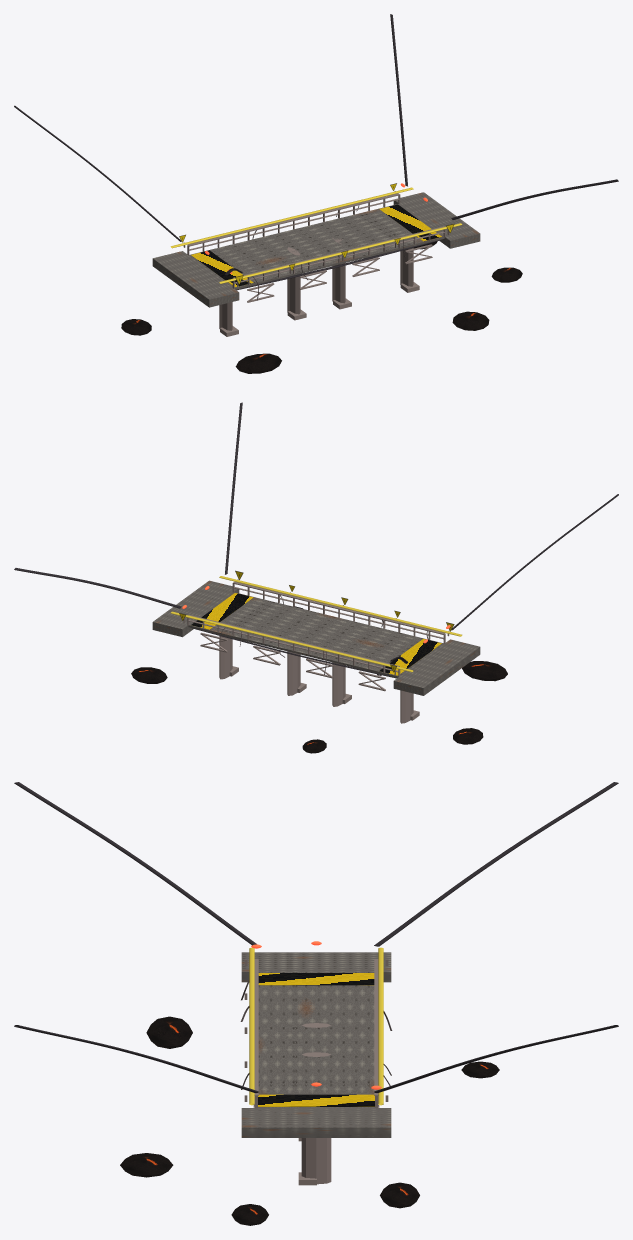
File: fire.glb
3 views of the same model, one above another, from view 1: azimuth 30°, elevation 25°; view 2: azimuth 150°, elevation 25°; view 3: azimuth 270°, elevation 25° (orthographic). The views are drawn at different scales.
Parts seen in each view (by area): view 1: BridgeDeck, BridgePlatform_L, BridgePlatform_R, WarningStripe_R, UpperConduit_1, WarningStripe_L, LavaIsland_0, UpperConduit_0, TopRail_+1, LavaIsland_3, Pillar_1, AnchorCable_3 (+3 smaller); view 2: BridgeDeck, BridgePlatform_L, BridgePlatform_R, WarningStripe_R, UpperConduit_0, WarningStripe_L, UpperConduit_1, LavaIsland_0, TopRail_-1, AnchorCable_2, Pillar_1, Pillar_2 (+4 smaller); view 3: BridgeDeck, BridgePlatform_R, BridgePlatform_L, WarningStripe_L, WarningStripe_R, Pillar_3, AnchorCable_1, AnchorCable_0, LavaIsland_0, LavaIsland_3, UpperConduit_0, UpperConduit_1 (+6 smaller).
Part boxes in pixels (bbox=[...]): BridgeDeck: bbox=[189, 204, 444, 289]; BridgePlatform_L: bbox=[152, 251, 239, 307]; BridgePlatform_R: bbox=[393, 192, 480, 248]; WarningStripe_R: bbox=[379, 204, 441, 241]; UpperConduit_1: bbox=[170, 187, 413, 248]; WarningStripe_L: bbox=[191, 250, 253, 287]; LavaIsland_0: bbox=[235, 353, 281, 373]; UpperConduit_0: bbox=[219, 223, 462, 283]; TopRail_+1: bbox=[188, 193, 399, 246]; LavaIsland_3: bbox=[452, 311, 489, 330]; Pillar_1: bbox=[287, 247, 300, 314]; AnchorCable_3: bbox=[390, 14, 407, 186]; BridgeDeck: bbox=[188, 592, 443, 677]; BridgePlatform_L: bbox=[393, 639, 480, 695]; BridgePlatform_R: bbox=[152, 580, 239, 637]; WarningStripe_R: bbox=[191, 593, 253, 629]; UpperConduit_0: bbox=[219, 576, 462, 636]; WarningStripe_L: bbox=[379, 639, 441, 675]; UpperConduit_1: bbox=[170, 611, 413, 672]; LavaIsland_0: bbox=[462, 661, 507, 681]; TopRail_-1: bbox=[233, 581, 445, 634]; AnchorCable_2: bbox=[225, 402, 242, 574]; Pillar_1: bbox=[332, 638, 345, 706]; Pillar_2: bbox=[287, 651, 300, 695]; BridgeDeck: bbox=[258, 972, 374, 1107]; BridgePlatform_R: bbox=[241, 1108, 391, 1137]; BridgePlatform_L: bbox=[241, 952, 391, 982]; WarningStripe_L: bbox=[258, 973, 374, 985]; WarningStripe_R: bbox=[258, 1094, 374, 1106]; Pillar_3: bbox=[301, 1138, 331, 1184]; AnchorCable_1: bbox=[374, 782, 618, 946]; AnchorCable_0: bbox=[14, 782, 256, 945]; LavaIsland_0: bbox=[146, 1016, 192, 1048]; LavaIsland_3: bbox=[120, 1153, 173, 1177]; UpperConduit_0: bbox=[249, 947, 254, 1105]; UpperConduit_1: bbox=[378, 947, 383, 1105].
Size of what is drawn, in the model's own units: 50.16 by 21.07 by 52.54.
Materials: 9 (4 with a texture image).
